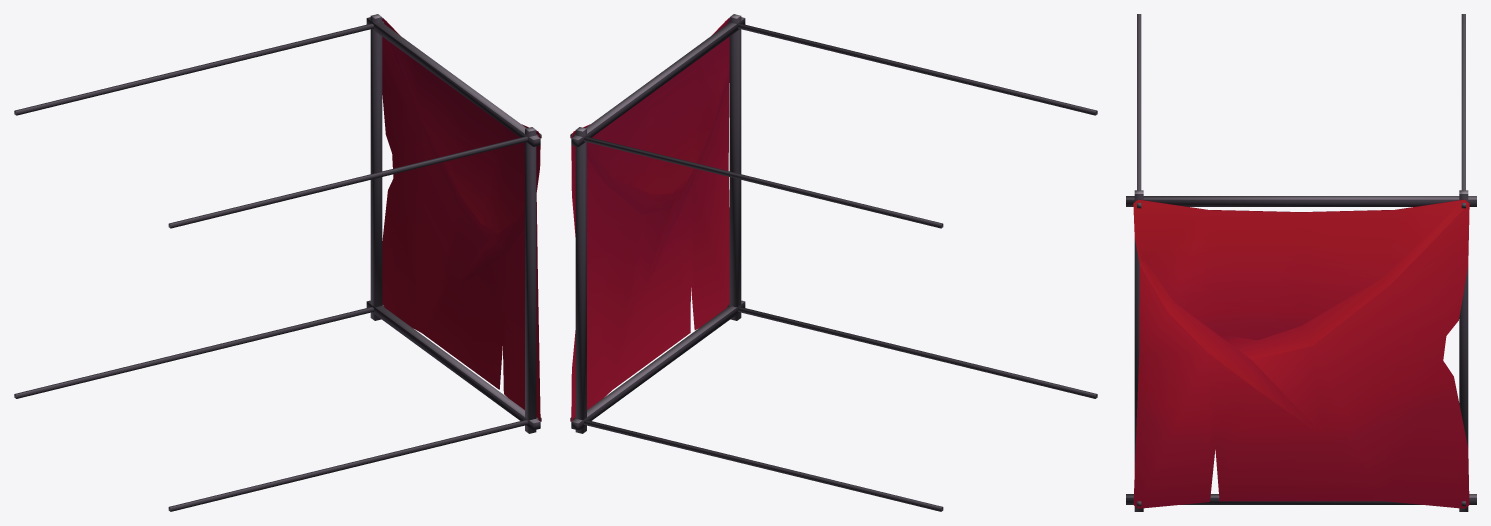
Rendered from Safety_Net_3A.fbx.
The picture shows the model from 3 angles, left to right: view 1: azimuth 30°, elevation 25°; view 2: azimuth 150°, elevation 25°; view 3: azimuth 270°, elevation 25°; orthographic projection. The views are drawn at different scales.
Visible parts, largest first — view 1: Safety_Net_3A; view 2: Safety_Net_3A; view 3: Safety_Net_3A.
Boxes of the visible parts, x1,y1,x2,y2 form: Safety_Net_3A: (14,14,541,511); Safety_Net_3A: (570,14,1097,511); Safety_Net_3A: (1126,14,1476,511).
Bounding box in the file's own units: 516 × 400 × 400.
